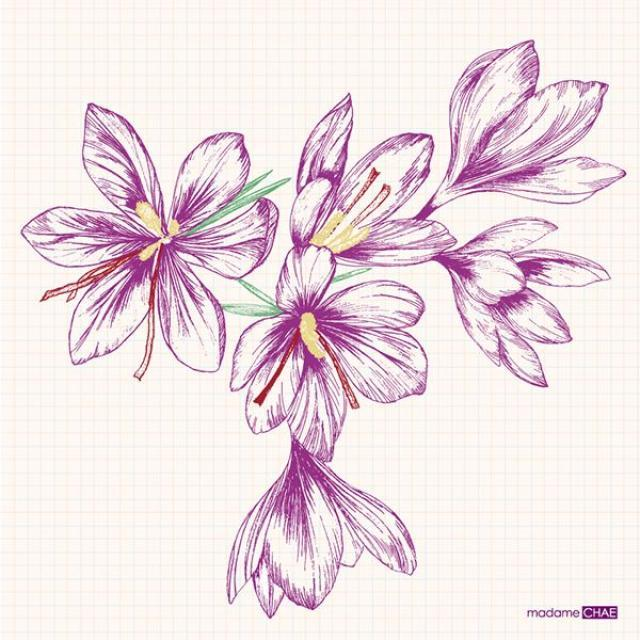Flower: (23, 96, 270, 382), (242, 233, 436, 448), (224, 453, 423, 624), (460, 194, 602, 404), (448, 36, 626, 202), (300, 86, 457, 270)
stigma: (295, 299, 369, 407), (129, 201, 166, 376)
